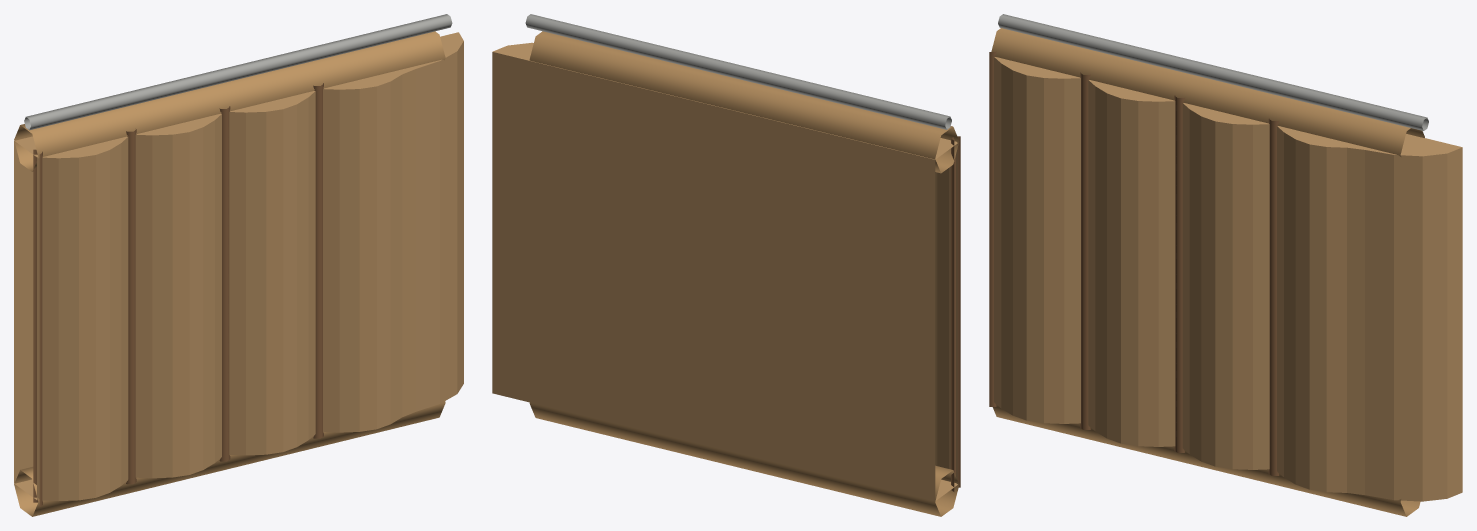
The model's file is section-1.obj.
3 views of the same model, side by side, from view 1: azimuth 30°, elevation 25°; view 2: azimuth 150°, elevation 25°; view 3: azimuth 330°, elevation 25° (orthographic).
Size of the model in its own units: 0.95 by 0.8072 by 0.13.
Materials: 1 (1 with a texture image).
